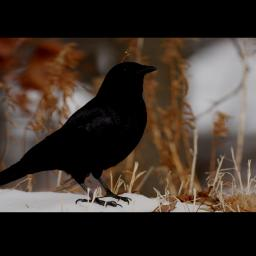Crow: (0, 59, 161, 208)
